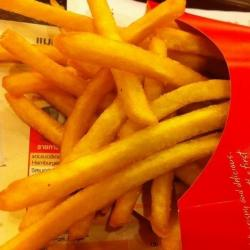fries: (31, 23, 207, 230)
